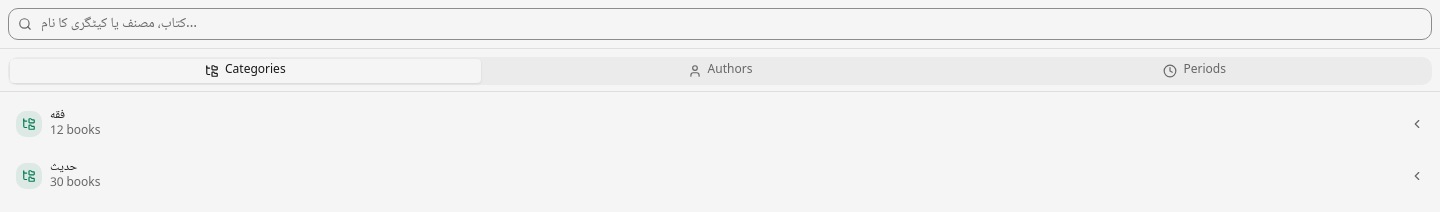
Scenario: BrowseTab — catalogue browsing state machine › once connected › uses the search endpoint once an author query is typed
expect the text "فقه" is shown: met, box [50,105,65,126]
Click the button "Authors".
click(720, 71)  # box [485,59,955,83]
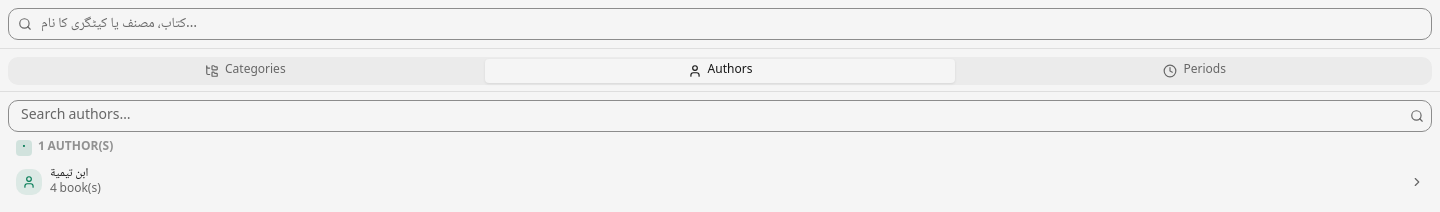
expect the text "ابن تيمية" is shown: met, box [50,163,88,184]
Type "قيم" into the field with placeholder "Search authors…".
click(720, 116); type("قيم")  # box [8,100,1432,132]
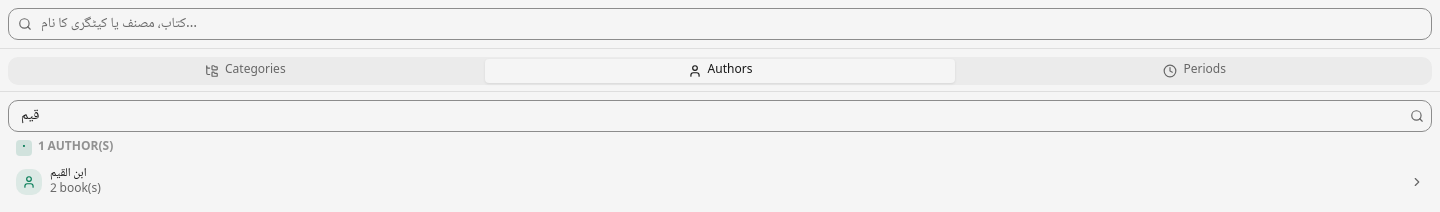
expect the text "ابن القيم" is shown: met, box [50,163,86,184]
